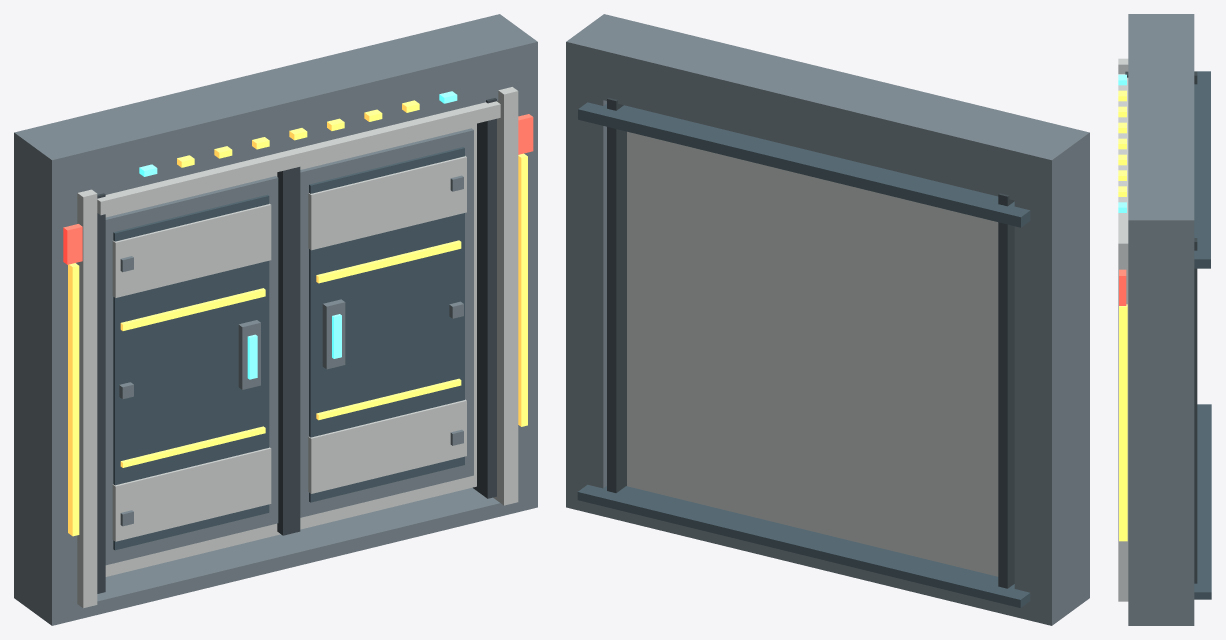
File: cruz-del-sur-sliding-bulkhead.glb
3 views of the same model, side by side, from view 1: azimuth 30°, elevation 25°; view 2: azimuth 150°, elevation 25°; view 3: azimuth 270°, elevation 25° (orthographic). The views are drawn at different scales.
Visible parts, largest first — view 1: FRAME_TOP, LEAF_LEFT_SLIDE_PANEL, LEAF_RIGHT_SLIDE_PANEL, FRAME_LEFT, FRAME_THRESHOLD, LEAF_LEFT_SLIDE_INNER, LEAF_RIGHT_SLIDE_INNER, FRAME_WHITE_R, LEAF_LEFT_SLIDE_BOTTOM_PLATE, LEAF_LEFT_SLIDE_TOP_PLATE, LEAF_RIGHT_SLIDE_BOTTOM_PLATE, LEAF_RIGHT_SLIDE_TOP_PLATE (+18 smaller); view 2: LEAF_RIGHT_SLIDE_BODY, LEAF_LEFT_SLIDE_BODY, FRAME_TOP, FRAME_LEFT, FRAME_RIGHT, TRACK_TOP, TRACK_BOTTOM, SEAL_R, SEAL_L, FRAME_THRESHOLD; view 3: FRAME_RIGHT, FRAME_TOP, TRACK_TOP, TRACK_BOTTOM, EDGE_AMBER_1.57, FRAME_WHITE_R, SEAL_R, HEADER_WHITE, FRAME_THRESHOLD, STATUS_LIGHT_1.57, FRAME_WHITE_L.
Part boxes in pixels (x1,y1,x2,y2): FRAME_TOP: (14,14,537,209); LEAF_LEFT_SLIDE_PANEL: (113,194,269,550); LEAF_RIGHT_SLIDE_PANEL: (309,147,464,502); FRAME_LEFT: (14,138,88,625); FRAME_THRESHOLD: (14,487,537,625); LEAF_LEFT_SLIDE_INNER: (105,176,278,565); LEAF_RIGHT_SLIDE_INNER: (300,128,473,517); FRAME_WHITE_R: (493,87,518,505); LEAF_LEFT_SLIDE_BOTTOM_PLATE: (112,447,271,541); LEAF_LEFT_SLIDE_TOP_PLATE: (112,203,271,297); LEAF_RIGHT_SLIDE_BOTTOM_PLATE: (308,399,466,493); LEAF_RIGHT_SLIDE_TOP_PLATE: (308,156,466,250); LEAF_RIGHT_SLIDE_BODY: (627,131,817,532); LEAF_LEFT_SLIDE_BODY: (818,178,998,576); FRAME_TOP: (566,14,1089,208); FRAME_LEFT: (1014,136,1089,625); FRAME_RIGHT: (566,44,606,515); TRACK_TOP: (578,102,1030,227); TRACK_BOTTOM: (577,484,1030,607); SEAL_R: (607,98,626,492); SEAL_L: (998,193,1014,588); FRAME_THRESHOLD: (566,494,1089,625); FRAME_RIGHT: (1128,222,1194,625); FRAME_TOP: (1128,14,1194,263); TRACK_TOP: (1194,71,1210,268); TRACK_BOTTOM: (1194,404,1211,599); EDGE_AMBER_1.57: (1119,304,1127,541); FRAME_WHITE_R: (1118,237,1128,601); SEAL_R: (1194,238,1197,583); HEADER_WHITE: (1118,74,1128,237); FRAME_THRESHOLD: (1128,614,1194,625); STATUS_LIGHT_1.57: (1119,269,1126,305); FRAME_WHITE_L: (1118,58,1128,73).
Size of the model in its own units: 3.4 by 3.12 by 0.65.
